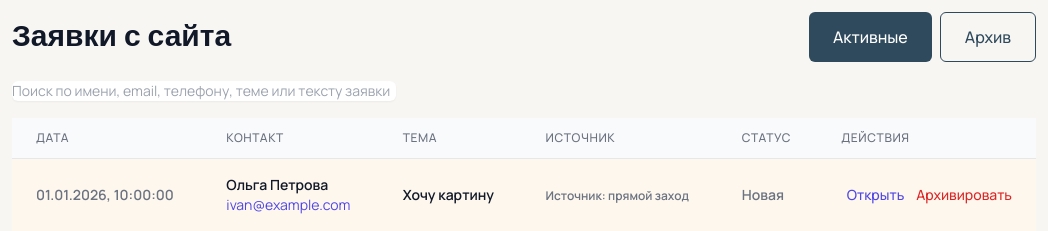
Test case: MessagesList › shows a "nothing found" empty state when the search query matches nothing
Type "несуществующий" into the field named "Поиск по заявкам" at (204, 91), box [12,81,396,101]
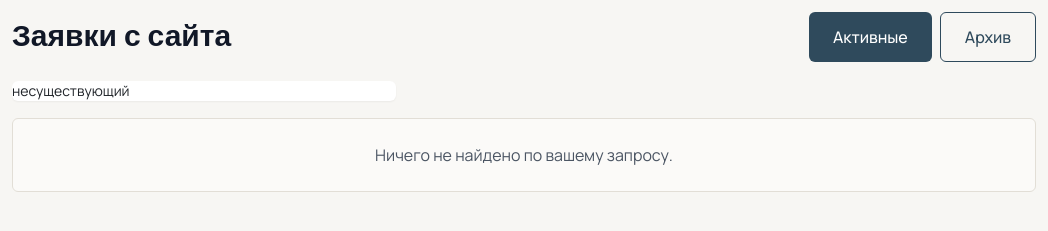
Result: the text with test id "empty-state" shows "Ничего не найдено" at [375,144,673,166]
